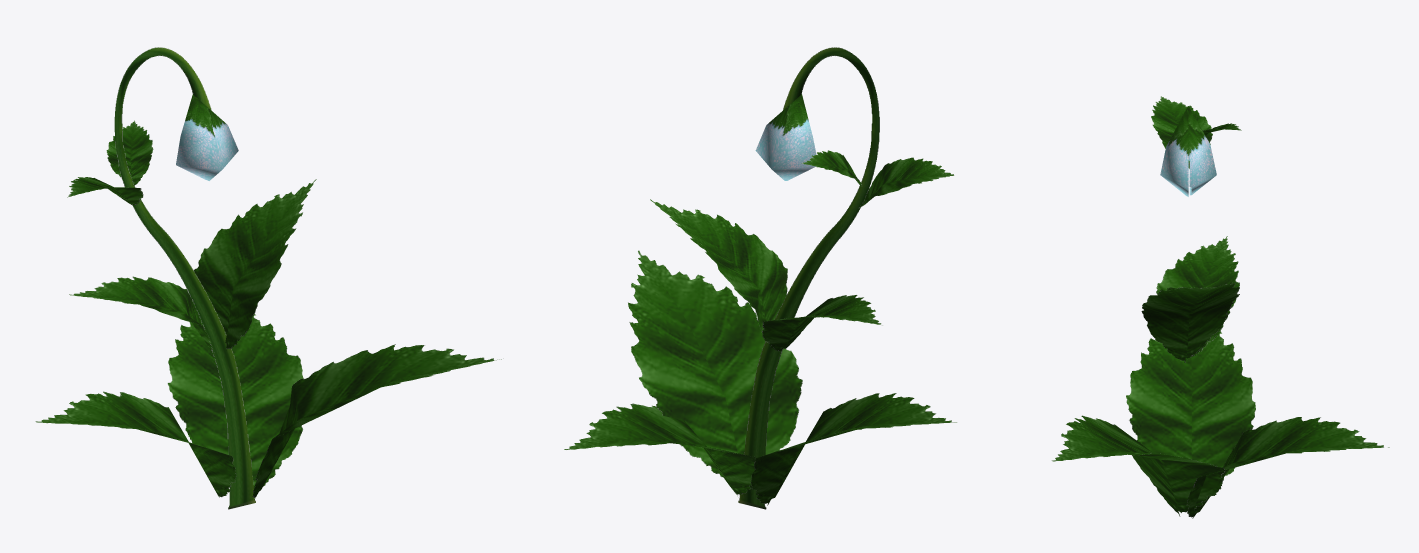
The model's file is Plant C-1.fbx.
3 views of the same model, side by side, from view 1: azimuth 30°, elevation 25°; view 2: azimuth 150°, elevation 25°; view 3: azimuth 270°, elevation 25° (orthographic). The views are drawn at different scales.
Parts seen in each view (by area): view 1: pSolid2; view 2: pSolid2; view 3: pSolid2.
Part boxes in pixels (<box>): pSolid2: <box>35,47,503,509</box>; pSolid2: <box>564,47,956,509</box>; pSolid2: <box>1051,96,1389,518</box>.
Size of the model in its own units: 7.6 by 8.23 by 6.62.
